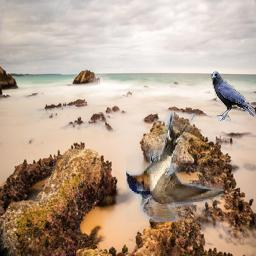Crow: (211, 71, 256, 121)
Swallow: (127, 110, 224, 223)
